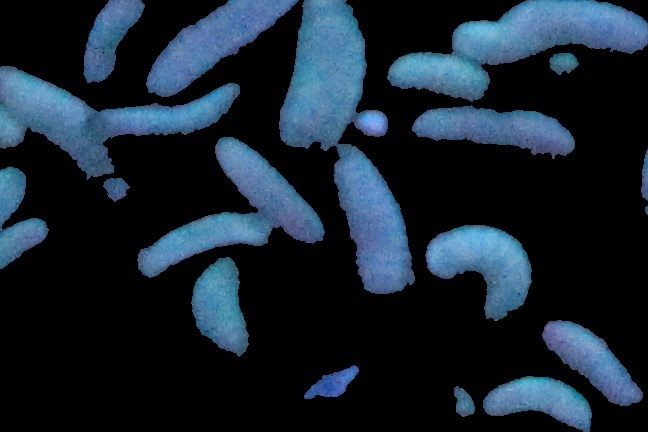larvae: (1, 60, 117, 174), (138, 1, 298, 77), (281, 4, 358, 149), (335, 158, 409, 302), (427, 226, 527, 318), (233, 151, 319, 251), (417, 107, 571, 161), (545, 310, 643, 390), (449, 19, 572, 81), (519, 1, 646, 51), (393, 51, 495, 111), (109, 88, 241, 132), (140, 216, 243, 272), (193, 256, 250, 354), (479, 375, 599, 418), (93, 1, 137, 84), (1, 219, 46, 281), (1, 166, 34, 212)
